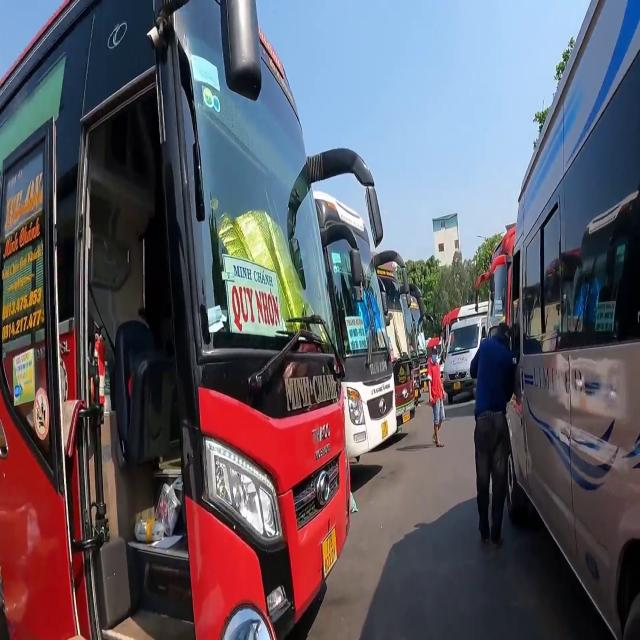bien_vang: (317, 526, 338, 580), (381, 422, 388, 437), (402, 412, 410, 422), (453, 381, 461, 390)
